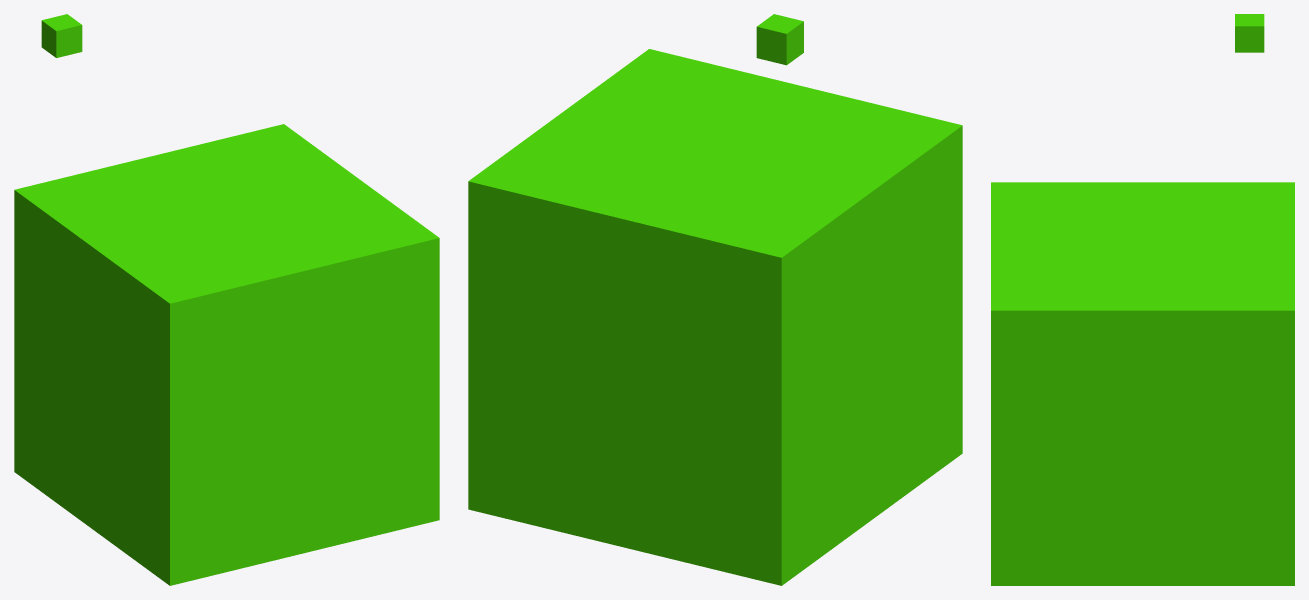
File: shotingduck.glb
3 views of the same model, side by side, from view 1: azimuth 30°, elevation 25°; view 2: azimuth 150°, elevation 25°; view 3: azimuth 270°, elevation 25° (orthographic). The views are drawn at different scales.
Visible parts, largest first — view 1: Cube, Cube.001; view 2: Cube, Cube.001; view 3: Cube, Cube.001.
Boxes of the visible parts, box(x1,y1,x2,y2) form: Cube: box(14, 124, 439, 585); Cube.001: box(41, 14, 82, 57); Cube: box(468, 49, 962, 585); Cube.001: box(756, 14, 803, 65); Cube: box(991, 182, 1294, 585); Cube.001: box(1235, 14, 1264, 52).
Bounding box in the file's own units: 0.7888 × 1.29 × 0.7888.
